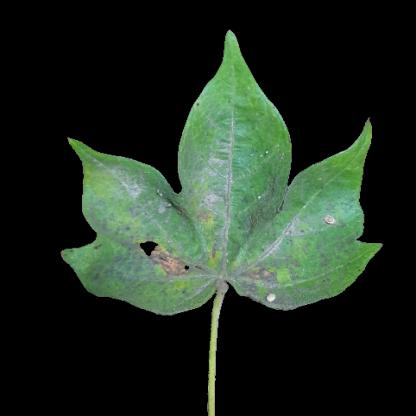curl_stage1: (206, 93, 271, 150)
sooty: (201, 171, 301, 241), (138, 223, 223, 292), (233, 237, 321, 302), (85, 193, 144, 245), (94, 243, 145, 296)
